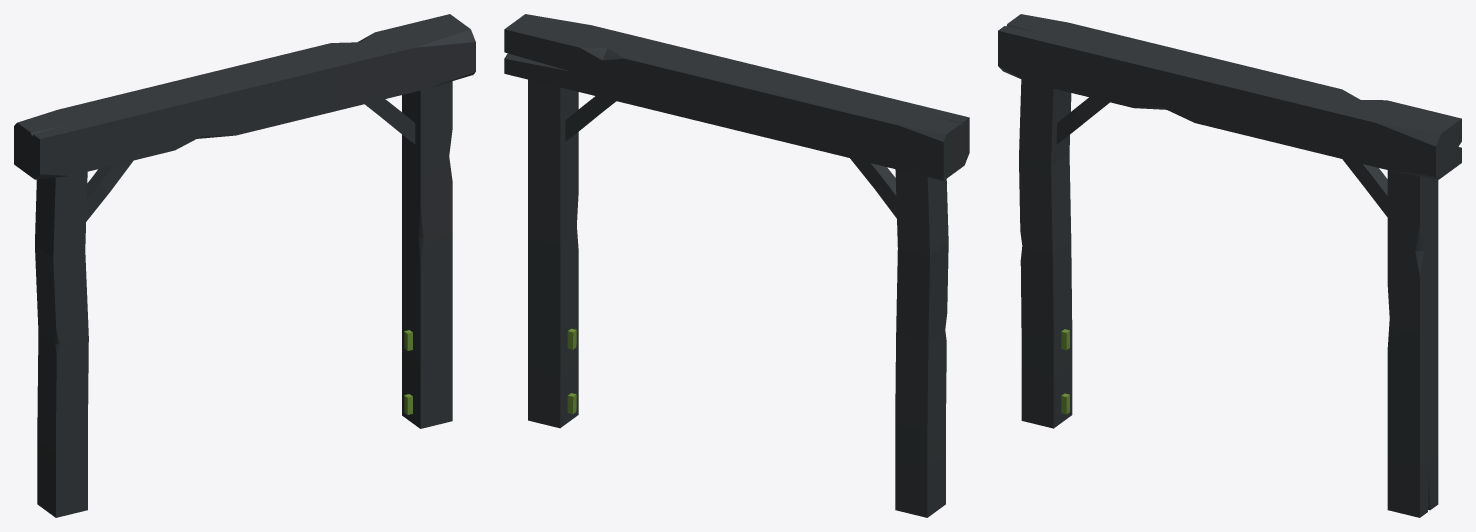
File: Arch_06.fbx
3 renders of one model, left to right at view 1: azimuth 30°, elevation 25°; view 2: azimuth 150°, elevation 25°; view 3: azimuth 330°, elevation 25°, orthographic.
Parts seen in each view (by area): view 1: Arch_06; view 2: Arch_06; view 3: Arch_06.
Part boxes in pixels (bbox=[...]): Arch_06: bbox=[14, 14, 475, 517]; Arch_06: bbox=[504, 14, 969, 517]; Arch_06: bbox=[998, 14, 1461, 517].
Size of the model in its own units: 4.67 by 3.95 by 0.4787.
